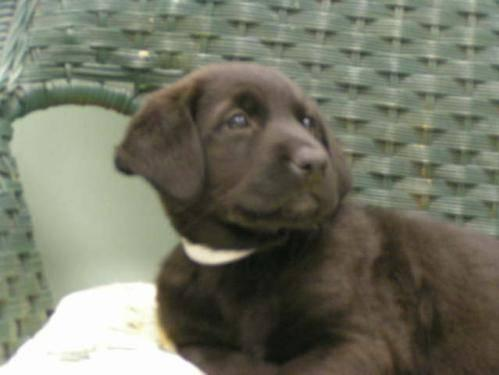dog: (113, 61, 499, 375)
